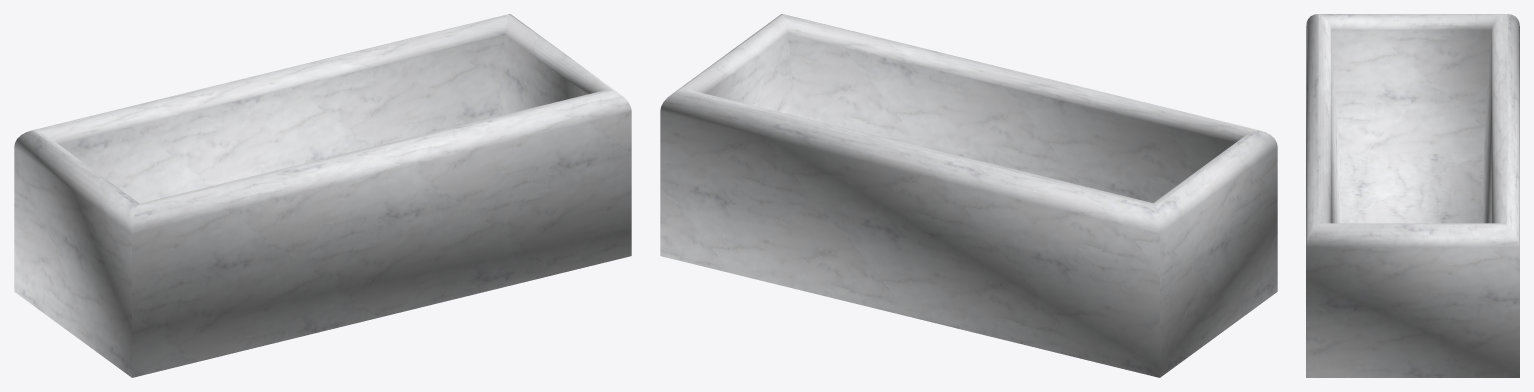
Rendered from Bathtub new.fbx.
The picture shows the model from 3 angles, left to right: view 1: azimuth 30°, elevation 25°; view 2: azimuth 150°, elevation 25°; view 3: azimuth 270°, elevation 25°; orthographic projection. The views are drawn at different scales.
Visible parts, largest first — view 1: Bathtub; view 2: Bathtub; view 3: Bathtub.
Part boxes in pixels (bbox=[...]): Bathtub: bbox=[14, 14, 631, 377]; Bathtub: bbox=[660, 14, 1277, 377]; Bathtub: bbox=[1306, 14, 1519, 377].
Bounding box in the file's own units: 337 × 105 × 138.
1 material, 1 textured.
